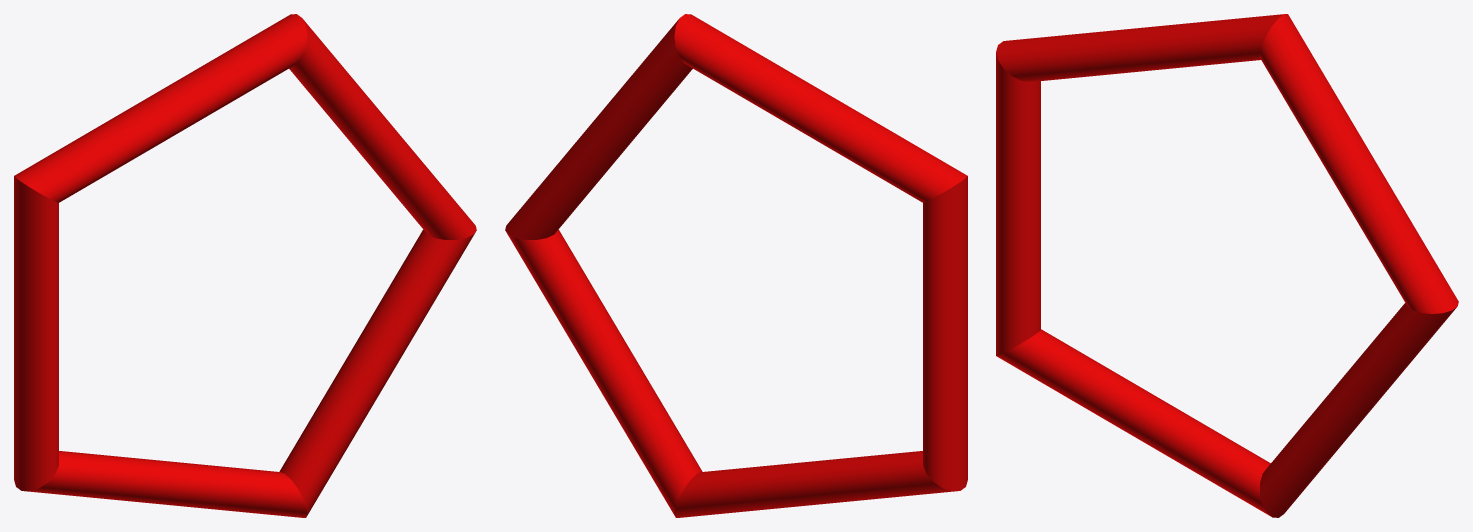
File: pentagon.fbx
3 renders of one model, left to right at view 1: azimuth 30°, elevation 25°; view 2: azimuth 150°, elevation 25°; view 3: azimuth 330°, elevation 25°, orthographic.
Parts seen in each view (by area): view 1: Triangle; view 2: Triangle; view 3: Triangle.
Part boxes in pixels (left/top/right/bottom): Triangle: left=14, top=14, right=476, bottom=517; Triangle: left=505, top=14, right=967, bottom=517; Triangle: left=996, top=14, right=1458, bottom=517.
Size of the model in its own units: 9.93 by 10.44 by 0.9945.
